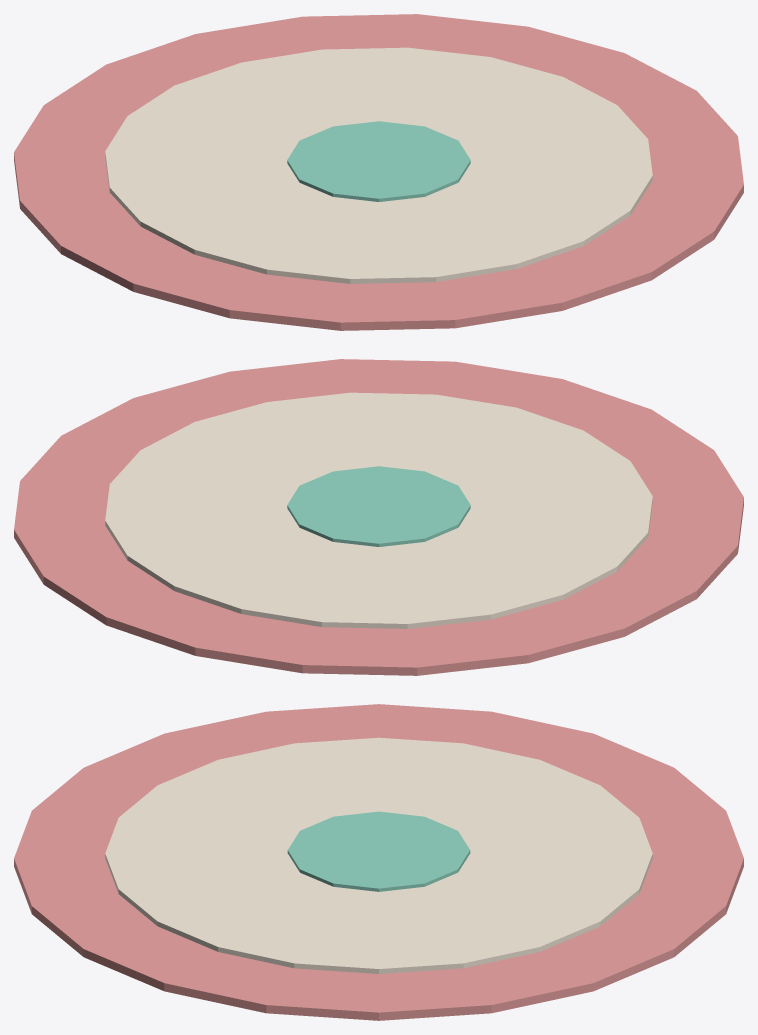
Rendered from CatCafe_Decor_Rug.glb.
3 renders of one model, top to bottom at view 1: azimuth 30°, elevation 25°; view 2: azimuth 150°, elevation 25°; view 3: azimuth 270°, elevation 25°, orthographic.
Parts seen in each view (by area): view 1: CatCafe_Decor_Rug; view 2: CatCafe_Decor_Rug; view 3: CatCafe_Decor_Rug.
Part boxes in pixels (x1=…): CatCafe_Decor_Rug: x1=14, y1=14, x2=743, y2=330; CatCafe_Decor_Rug: x1=14, y1=359, x2=743, y2=675; CatCafe_Decor_Rug: x1=14, y1=704, x2=743, y2=1020.
Size of the model in its own units: 4 by 0.1 by 4.
Materials: 1 (1 with a texture image).
